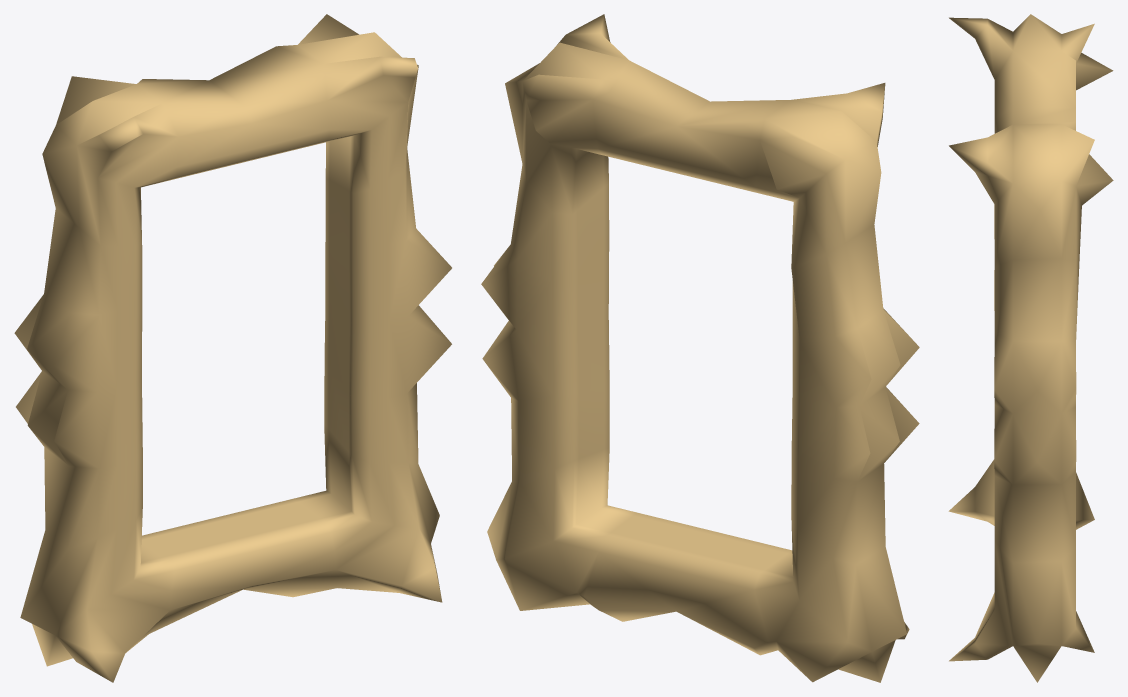
Rendered from frozen frame.fbx.
3 views of the same model, side by side, from view 1: azimuth 30°, elevation 25°; view 2: azimuth 150°, elevation 25°; view 3: azimuth 270°, elevation 25° (orthographic). The views are drawn at different scales.
Parts seen in each view (by area): view 1: Cube.003; view 2: Cube.003; view 3: Cube.003.
Part boxes in pixels (bbox=[...]): Cube.003: bbox=[14, 14, 451, 682]; Cube.003: bbox=[481, 14, 919, 682]; Cube.003: bbox=[948, 14, 1113, 682].
Bounding box in the file's own units: 346 × 439 × 126.
